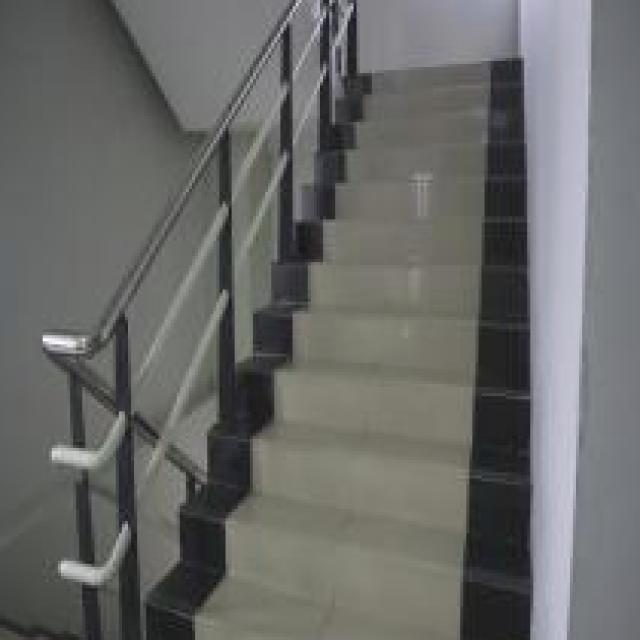upstair: (239, 223, 525, 640)
